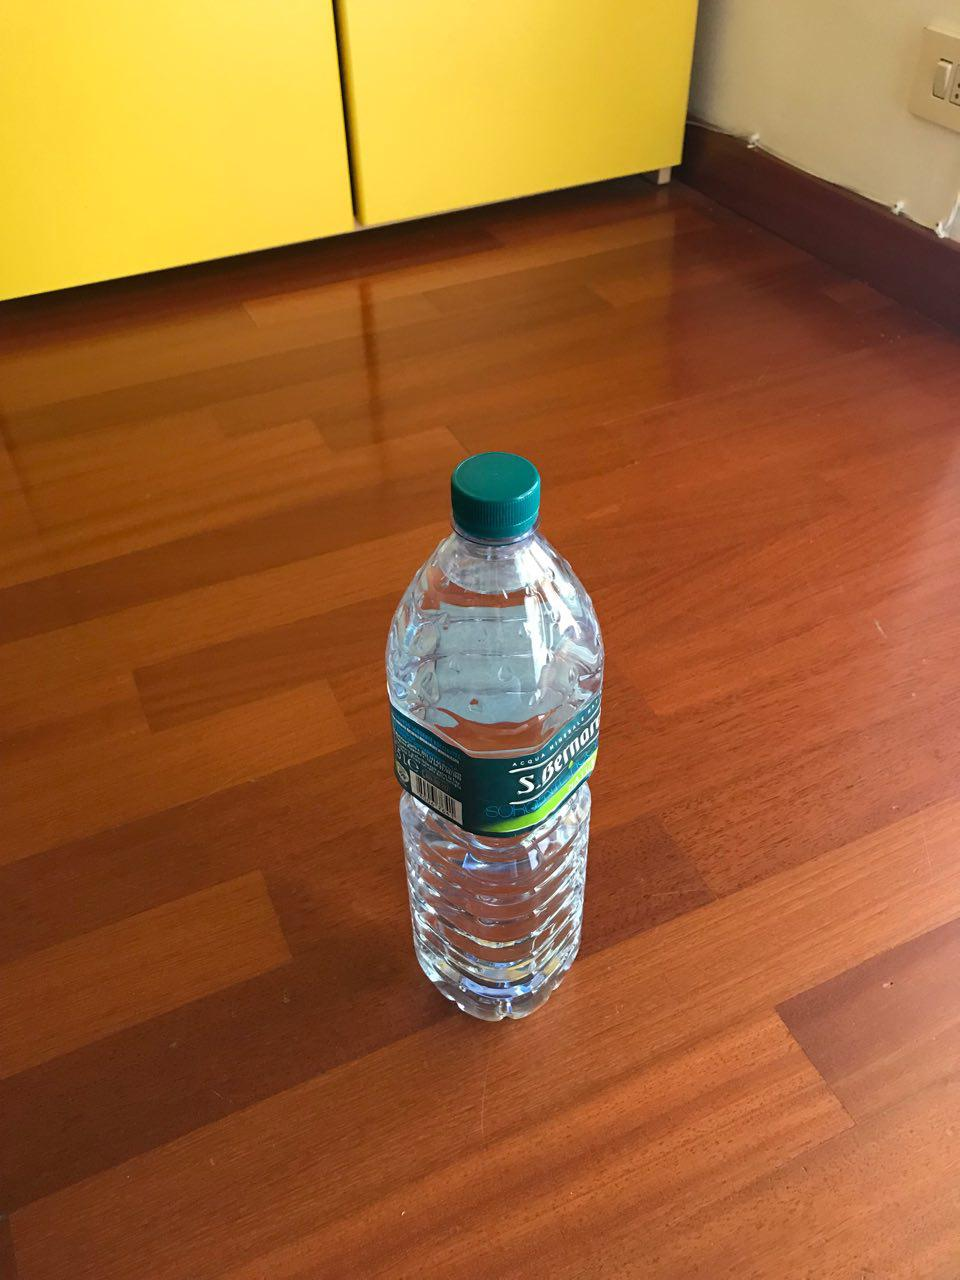san_bernardo: (383, 447, 606, 1025)
